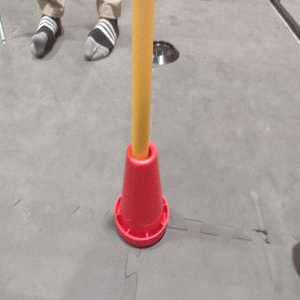Red_1: (112, 140, 170, 249)
